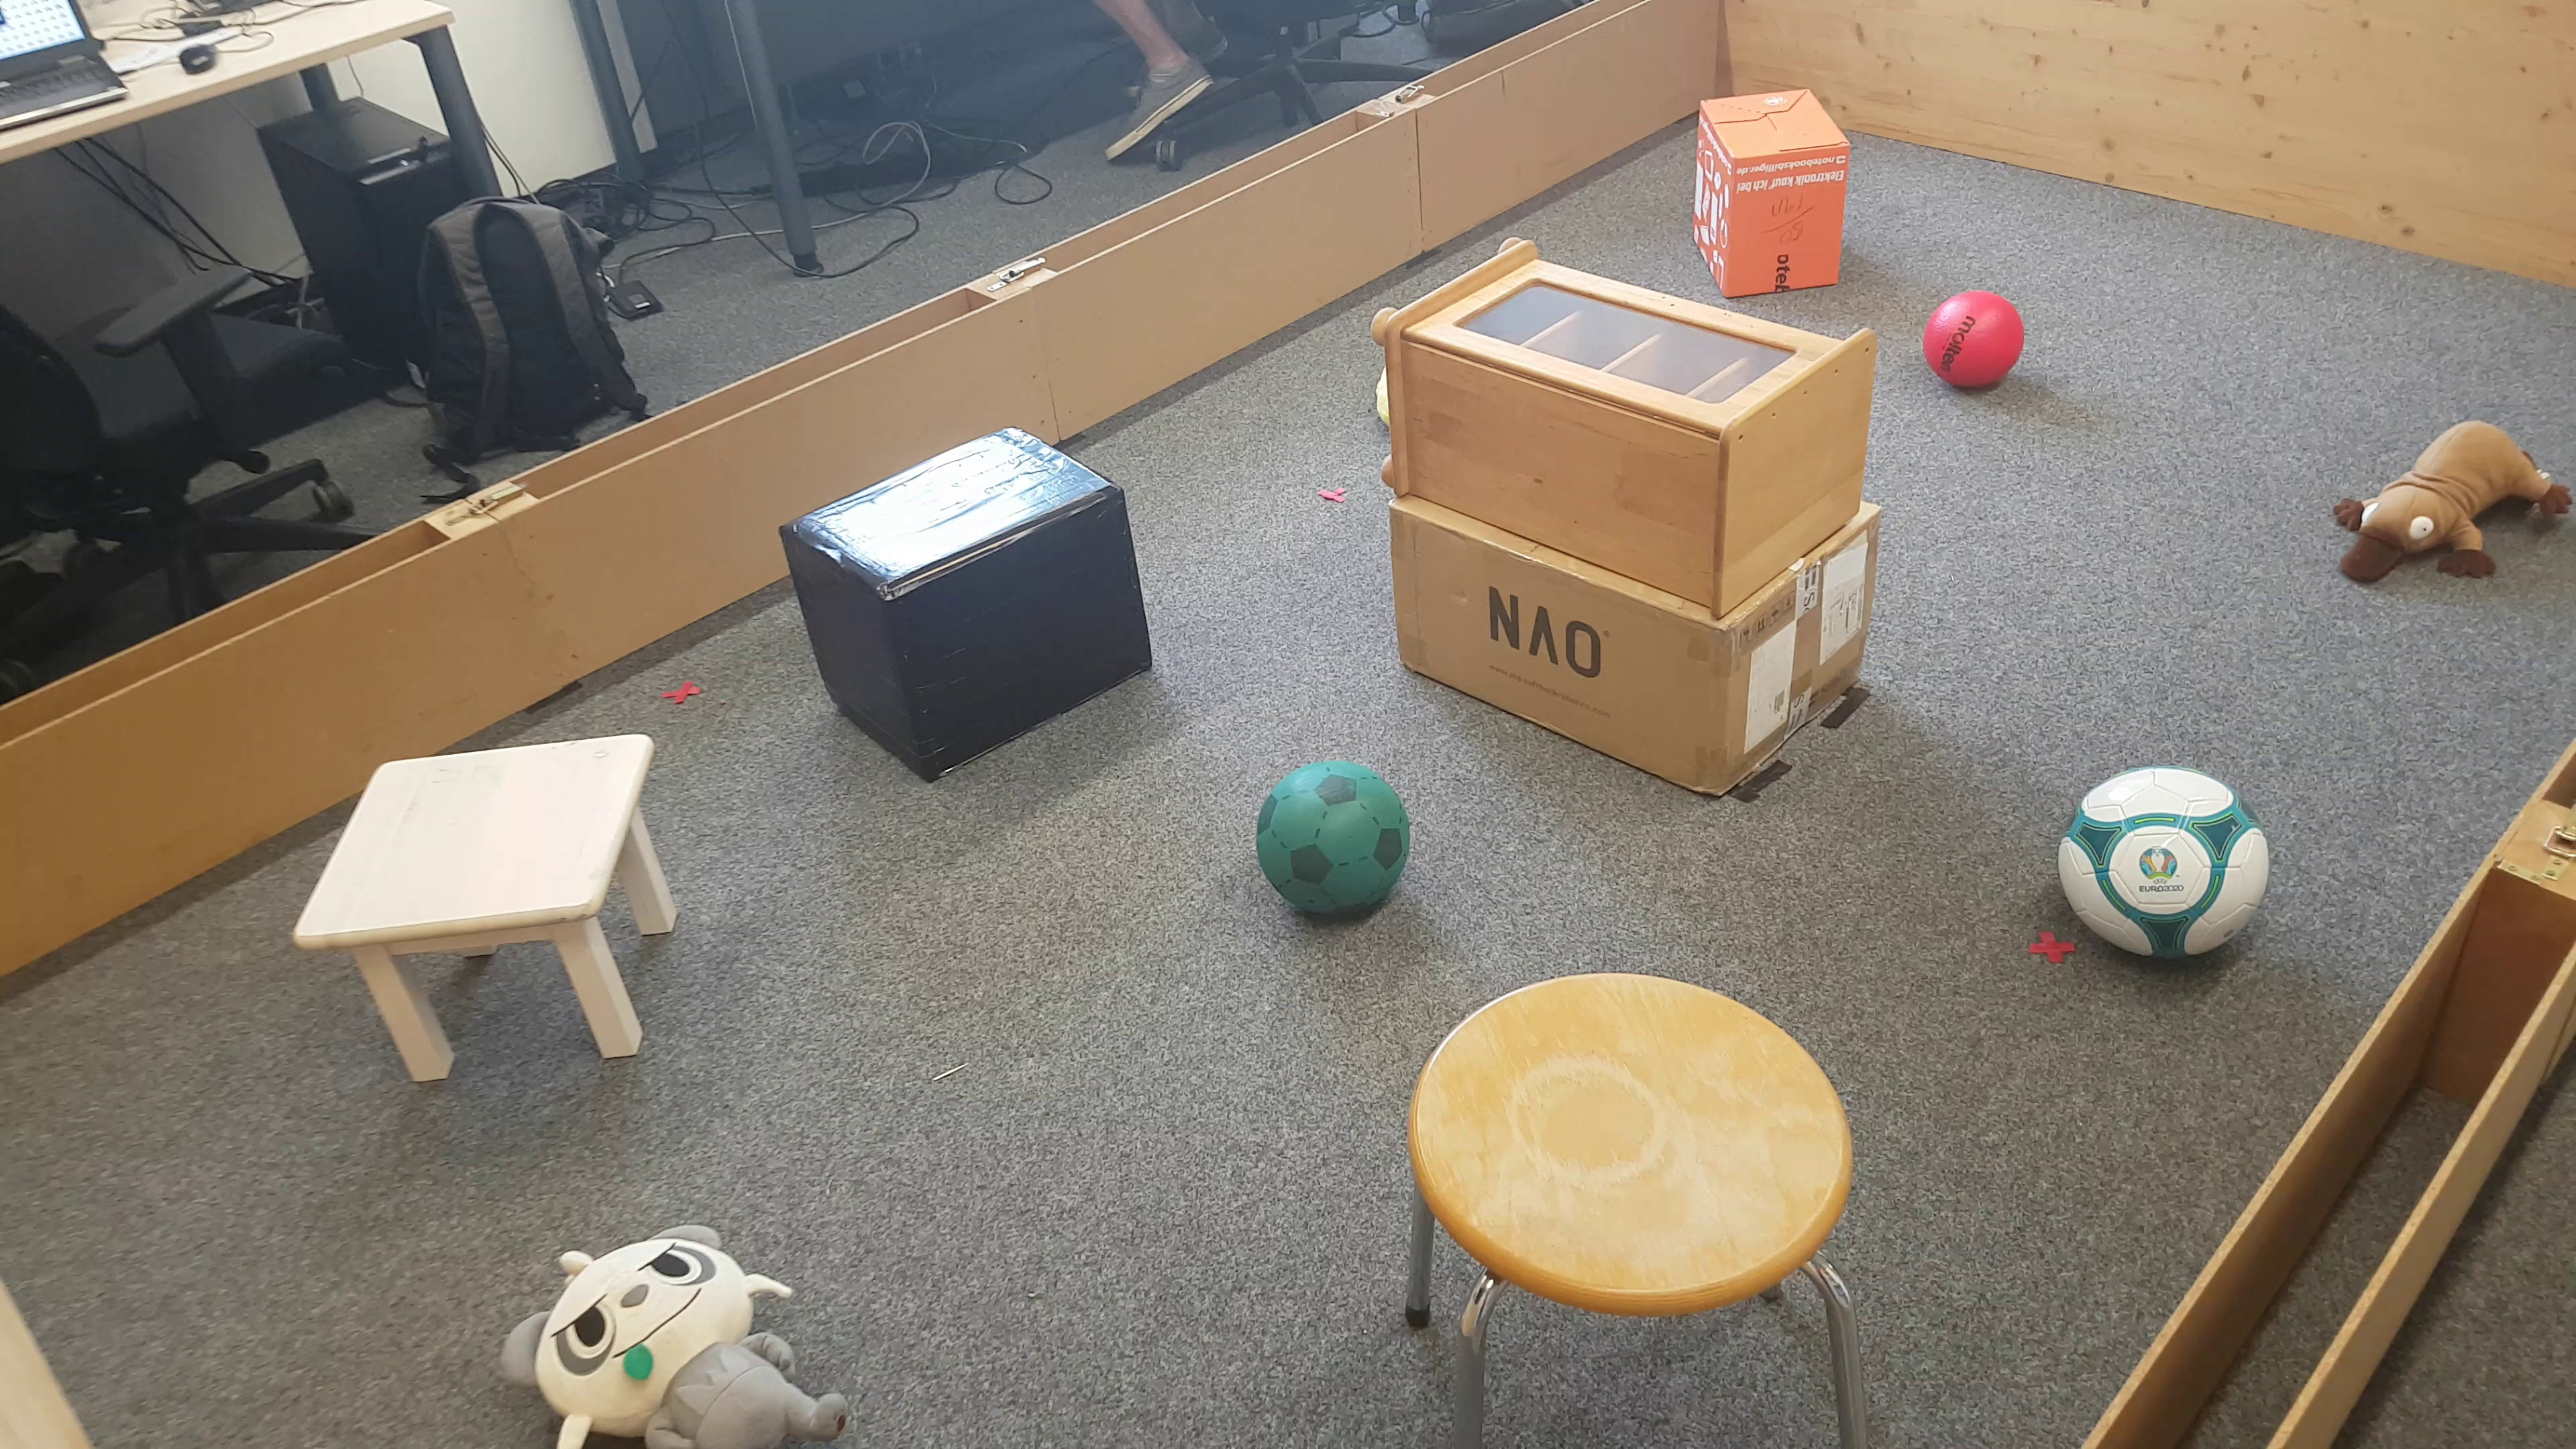grasp: (487, 1221, 849, 1449), (2328, 426, 2576, 594)
kick: (2054, 763, 2279, 975), (1254, 763, 1419, 924), (1925, 287, 2028, 389)
push: (775, 428, 1155, 786), (1693, 87, 1854, 299)
